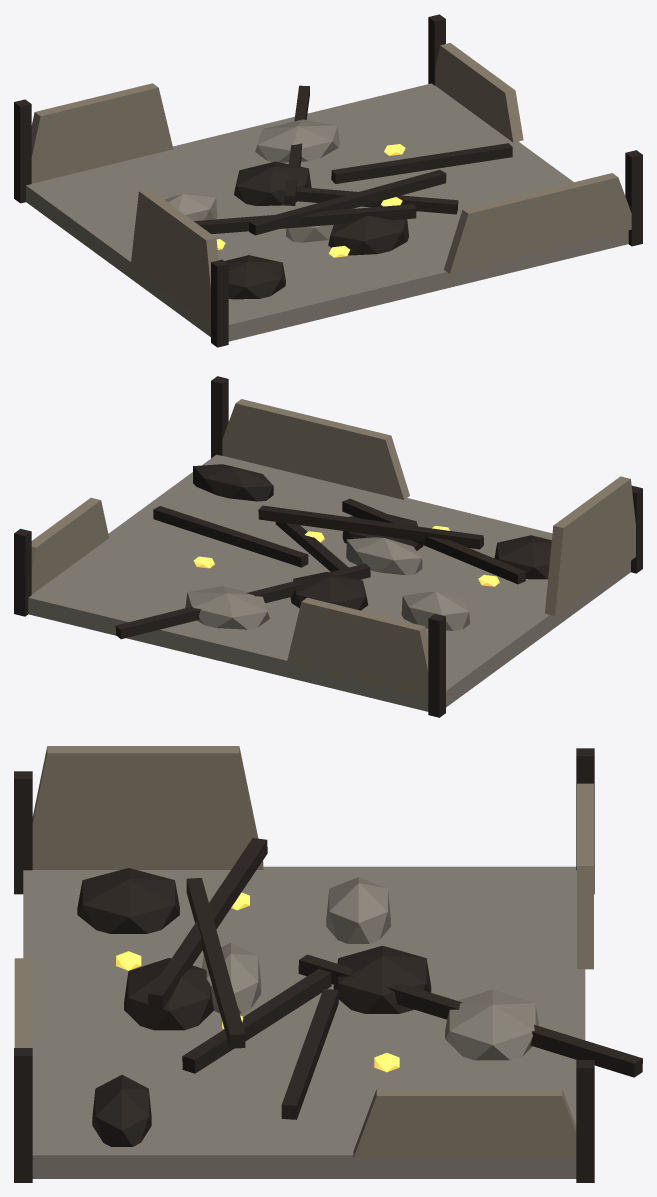
File: Dorf_Taverne_Ruine.fbx
3 views of the same model, one above another, from view 1: azimuth 30°, elevation 25°; view 2: azimuth 150°, elevation 25°; view 3: azimuth 270°, elevation 25° (orthographic). The views are drawn at different scales.
Visible parts, largest first — view 1: Dorf_Taverne_Ruine; view 2: Dorf_Taverne_Ruine; view 3: Dorf_Taverne_Ruine.
Part boxes in pixels (x1,y1,x2,y2): Dorf_Taverne_Ruine: [14, 14, 642, 347]; Dorf_Taverne_Ruine: [14, 376, 642, 717]; Dorf_Taverne_Ruine: [14, 746, 642, 1182].
Size of the model in its own units: 9.1 by 2.08 by 8.16.
